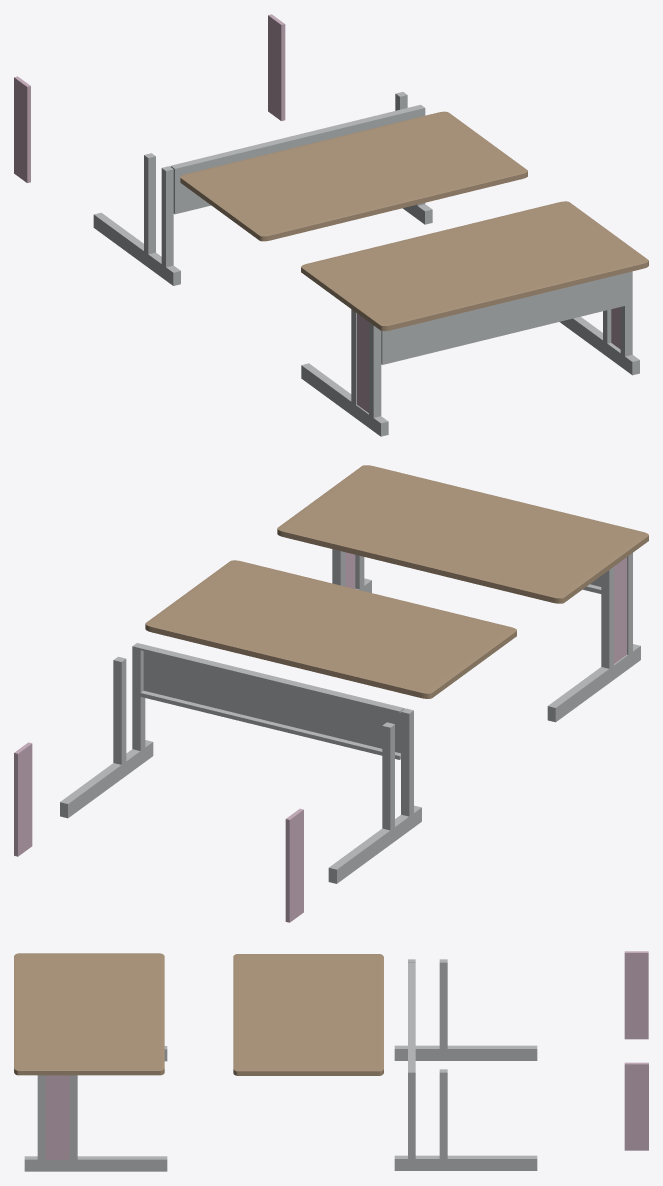
Rendered from table2.glb.
The picture shows the model from 3 angles, top to bottom: view 1: azimuth 30°, elevation 25°; view 2: azimuth 150°, elevation 25°; view 3: azimuth 270°, elevation 25°; orthographic projection. The views are drawn at different scales.
Parts seen in each view (by area): view 1: Mesh_Mesh_head_geo.001_lambert2SG.001; view 2: Mesh_Mesh_head_geo.001_lambert2SG.001; view 3: Mesh_Mesh_head_geo.001_lambert2SG.001.
Part boxes in pixels (left/top/right/bottom): Mesh_Mesh_head_geo.001_lambert2SG.001: left=14, top=14, right=648, bottom=436; Mesh_Mesh_head_geo.001_lambert2SG.001: left=14, top=465, right=648, bottom=922; Mesh_Mesh_head_geo.001_lambert2SG.001: left=14, top=951, right=648, bottom=1171.
Bounding box in the file's own units: 112 × 43 × 240.
